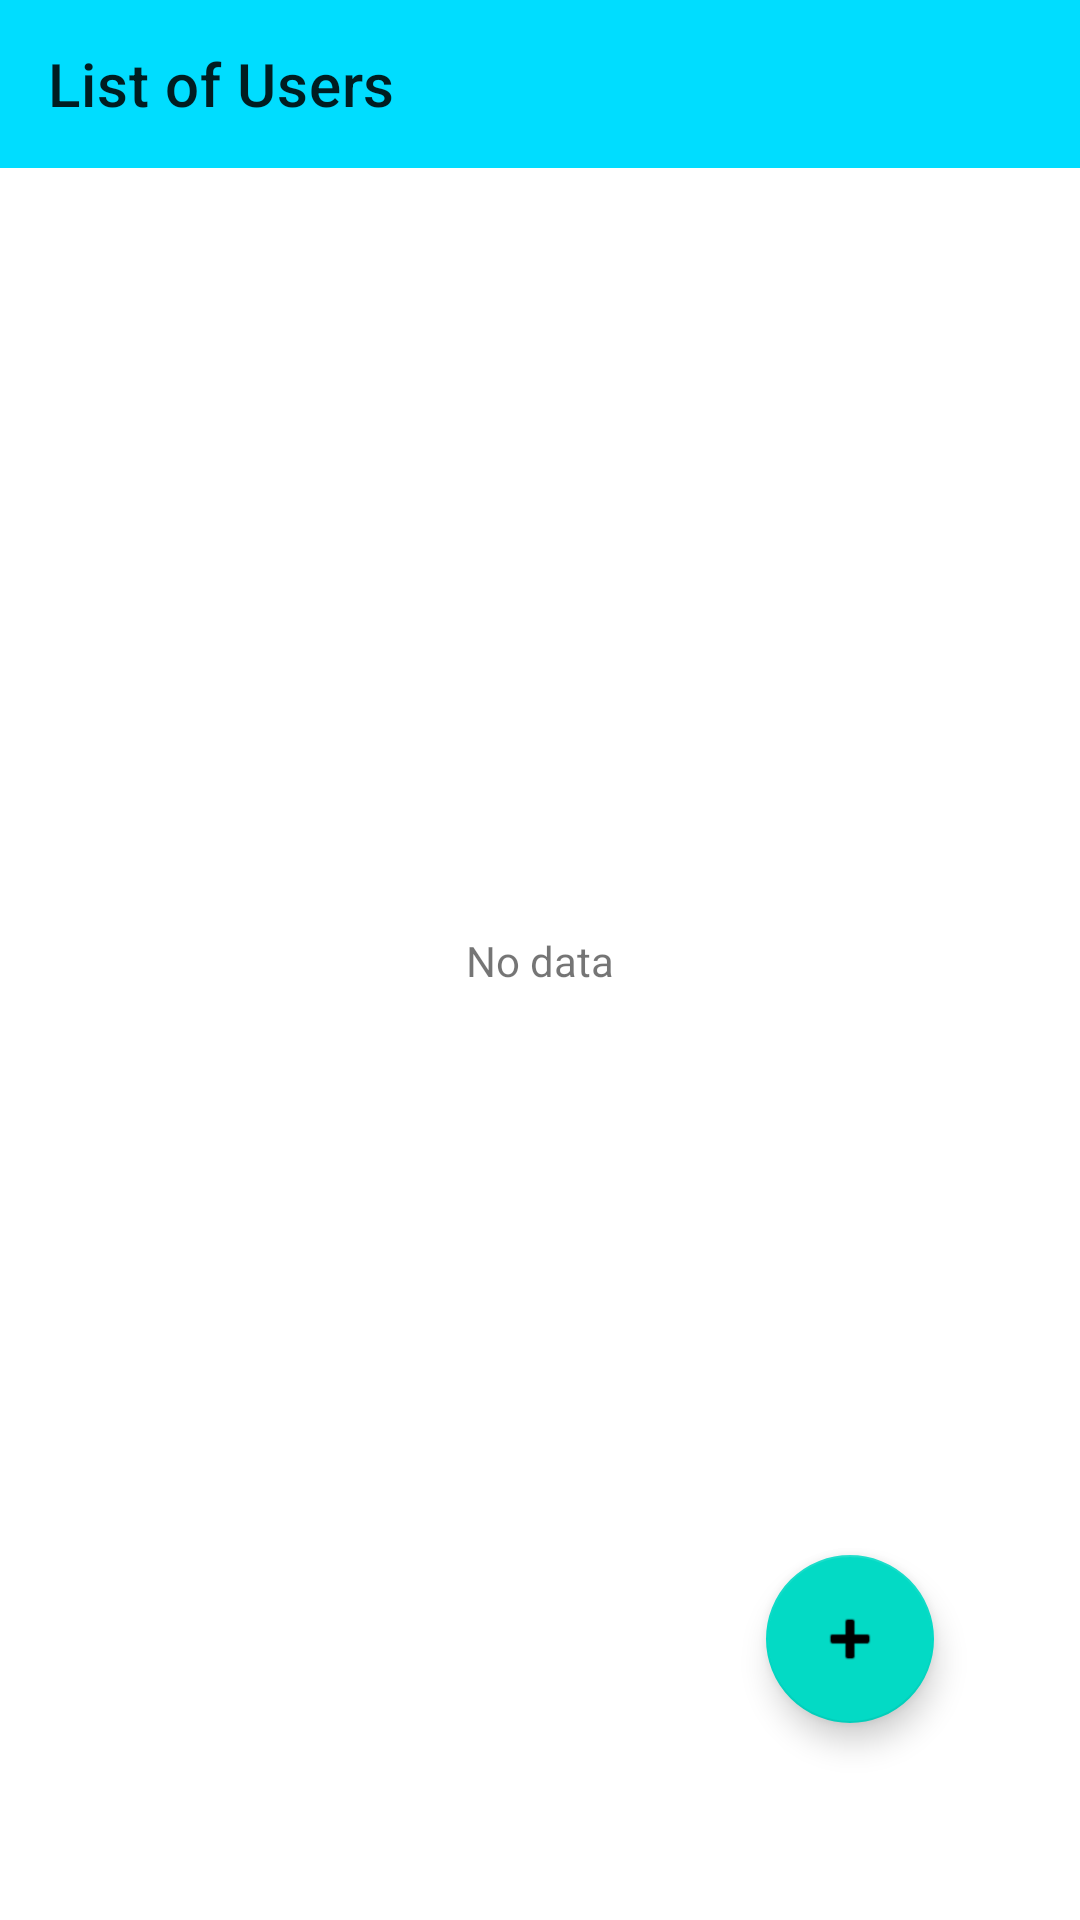

Icon click points for this 1080w x 1920h phone screenshot, format [x,y]:
add: [850,1639]
